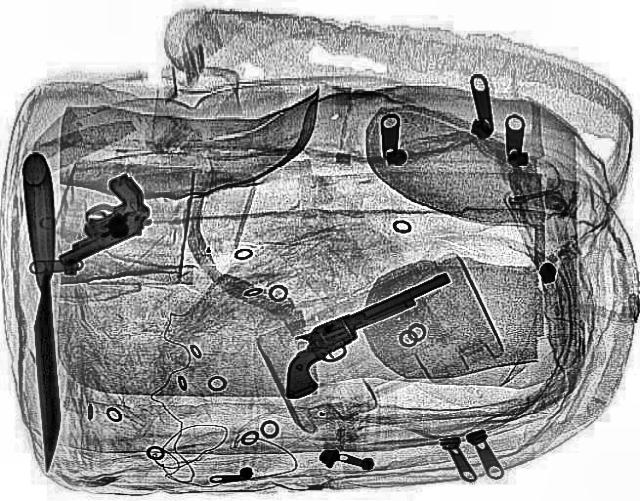Gun: (248, 270, 482, 400), (21, 172, 169, 268)
Knife: (22, 152, 62, 470)
